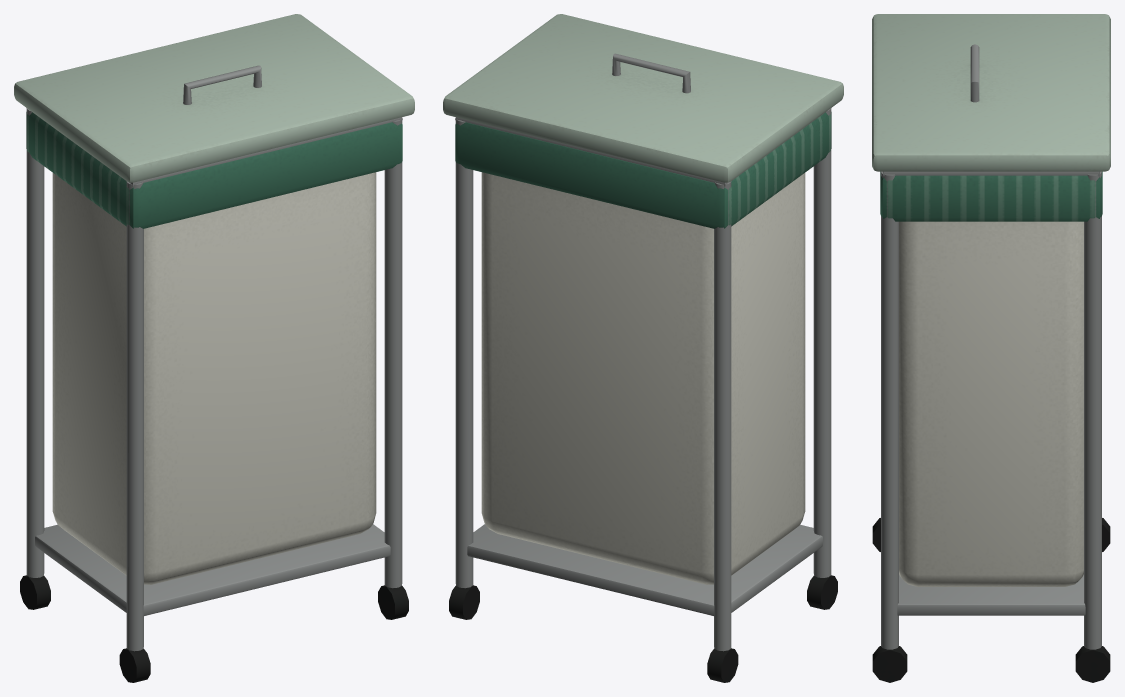
The model's file is CTCC_STAFF_LinenBin.fbx.
3 renders of one model, left to right at view 1: azimuth 30°, elevation 25°; view 2: azimuth 150°, elevation 25°; view 3: azimuth 270°, elevation 25°, orthographic.
Visible parts, largest first — view 1: CTCC_STAFF_LinenBin; view 2: CTCC_STAFF_LinenBin; view 3: CTCC_STAFF_LinenBin.
Part boxes in pixels (x1,y1,x2,y2): CTCC_STAFF_LinenBin: (14, 14, 414, 682); CTCC_STAFF_LinenBin: (443, 14, 843, 682); CTCC_STAFF_LinenBin: (872, 14, 1110, 682).
Size of the model in its own units: 0.41 by 0.7399 by 0.29.
